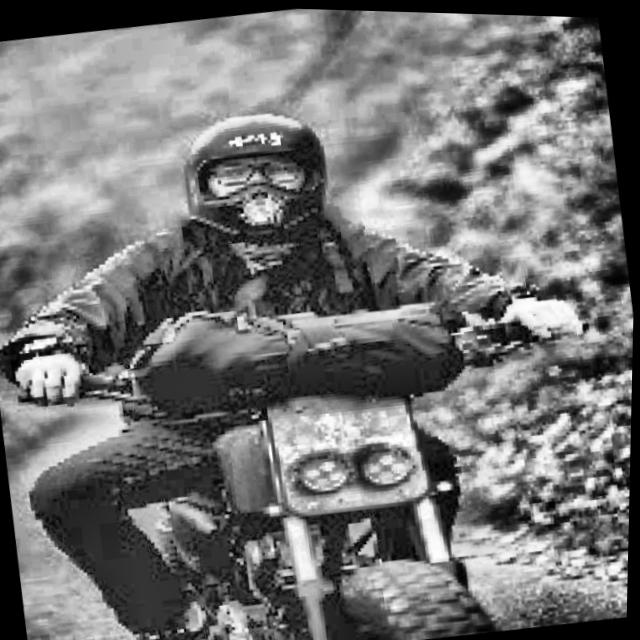motorcycle: (0, 235, 636, 640)
